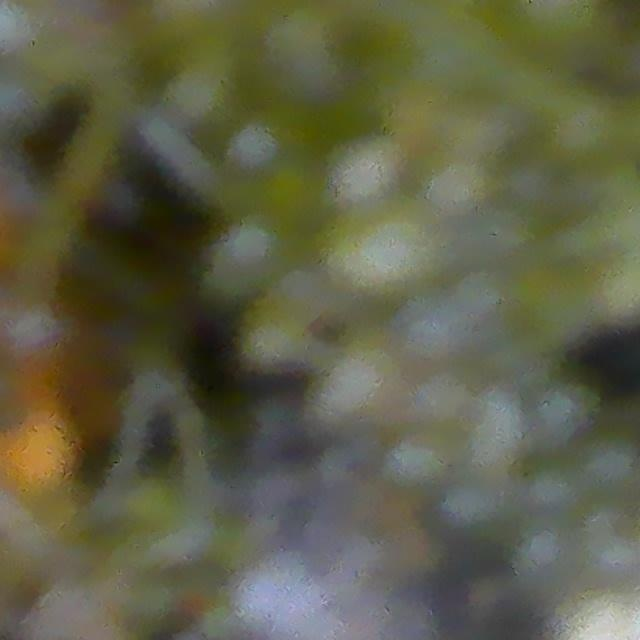SeaGrape: (320, 195, 442, 304), (253, 0, 356, 105), (197, 211, 294, 304), (395, 284, 480, 366), (235, 297, 317, 378), (327, 131, 408, 211), (512, 523, 579, 592), (383, 431, 447, 492), (226, 116, 288, 176), (441, 478, 504, 537)
